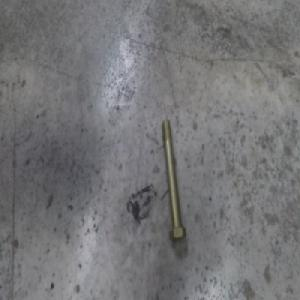Bolt: (163, 112, 189, 237)
